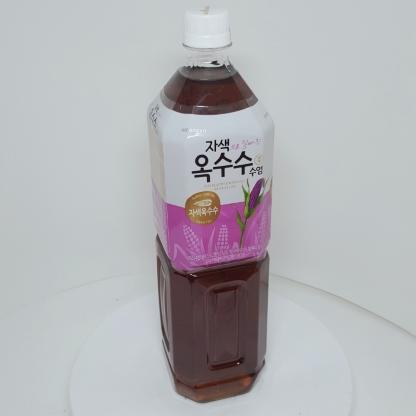----------1-5L: (147, 5, 275, 403)
